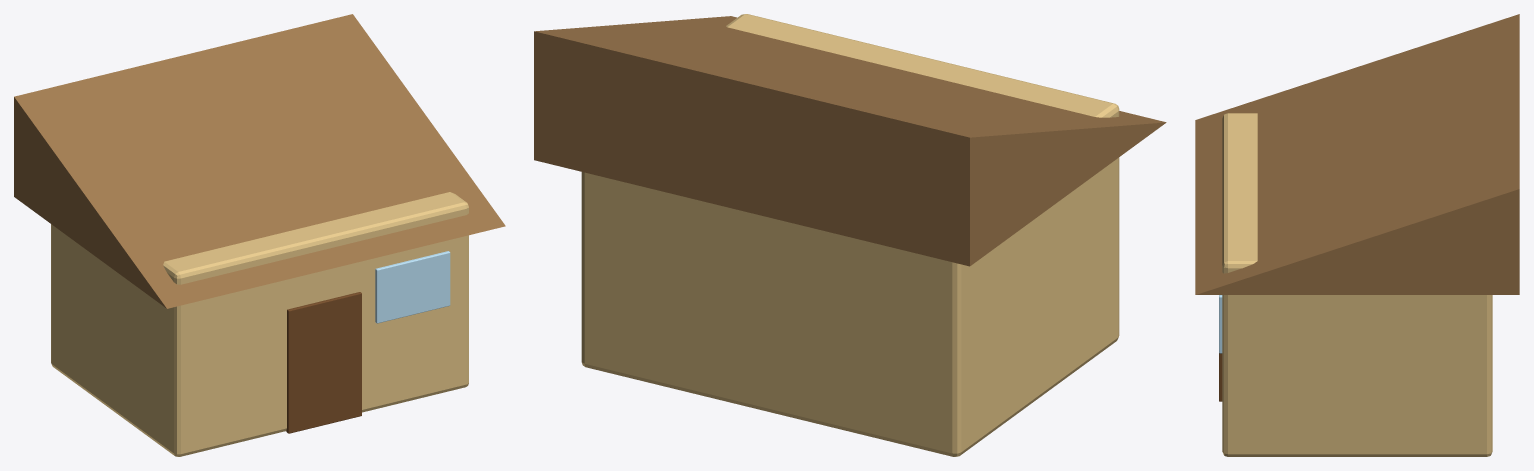
Rendered from Surfing_Hut.fbx.
The picture shows the model from 3 angles, left to right: view 1: azimuth 30°, elevation 25°; view 2: azimuth 150°, elevation 25°; view 3: azimuth 270°, elevation 25°; orthographic projection. The views are drawn at different scales.
Parts seen in each view (by area): view 1: Hut; view 2: Hut; view 3: Hut.
Boxes of the visible parts, x1,y1,x2,y2 form: Hut: [14, 14, 505, 456]; Hut: [534, 14, 1166, 456]; Hut: [1195, 14, 1519, 456].
Size of the model in its own units: 4.6 by 3.45 by 3.6.
